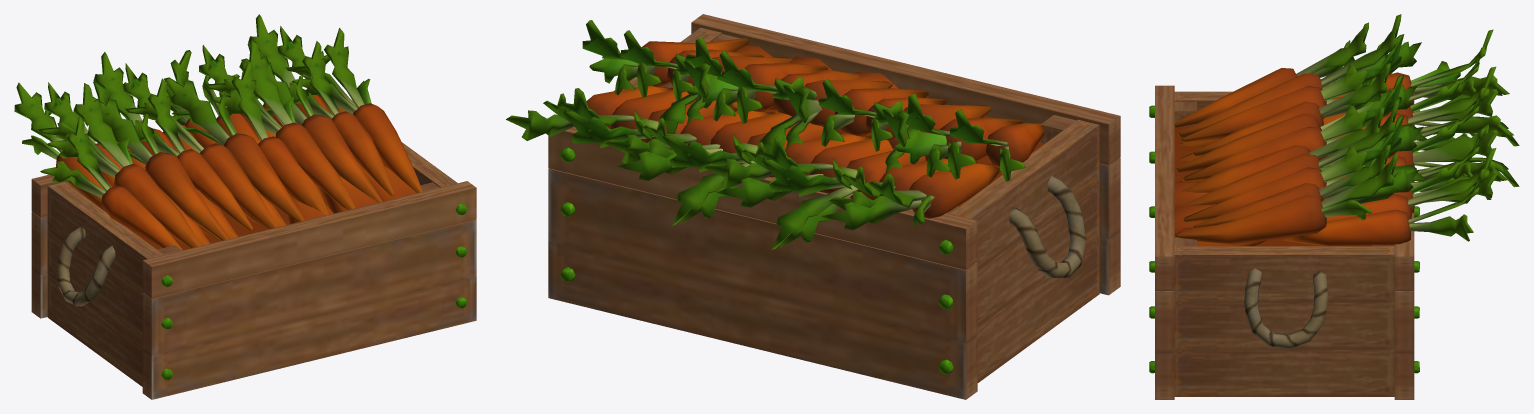
File: FarmCrate_Carrot.glb
The picture shows the model from 3 angles, left to right: view 1: azimuth 30°, elevation 25°; view 2: azimuth 150°, elevation 25°; view 3: azimuth 270°, elevation 25°; orthographic projection. The views are drawn at different scales.
Visible parts, largest first — view 1: FarmCrate_Carrot; view 2: FarmCrate_Carrot; view 3: FarmCrate_Carrot.
Part boxes in pixels (box(x1,y1,x2,y2)): FarmCrate_Carrot: box(14, 14, 476, 399); FarmCrate_Carrot: box(506, 14, 1120, 399); FarmCrate_Carrot: box(1149, 14, 1519, 399).
Size of the model in its own units: 0.7138 by 0.4113 by 0.567.
3 materials, 3 textured.
